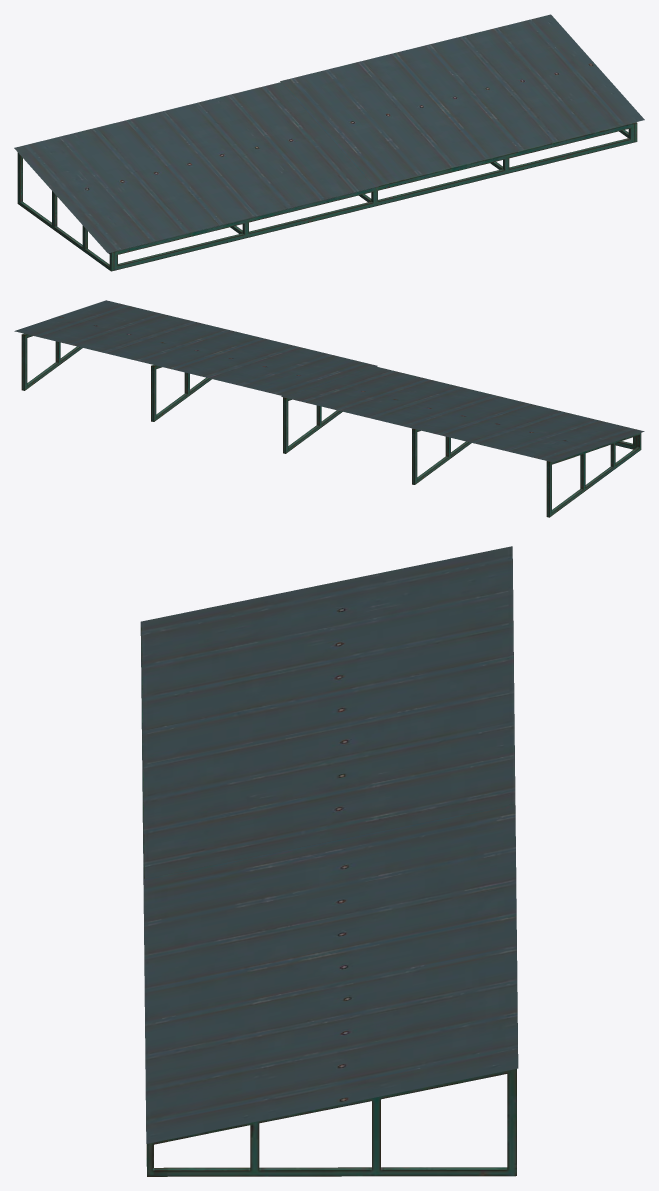
The model's file is awning_corrugated.glb.
3 renders of one model, top to bottom at view 1: azimuth 30°, elevation 25°; view 2: azimuth 150°, elevation 25°; view 3: azimuth 270°, elevation 25°, orthographic. The views are drawn at different scales.
Parts seen in each view (by area): view 1: awning_corrugated; view 2: awning_corrugated; view 3: awning_corrugated.
Part boxes in pixels (left/top/right/bottom): awning_corrugated: left=14, top=14, right=644, bottom=271; awning_corrugated: left=14, top=300, right=644, bottom=517; awning_corrugated: left=140, top=546, right=518, bottom=1176.
Size of the model in its own units: 3 by 0.3067 by 0.9118.
Materials: 1 (1 with a texture image).
